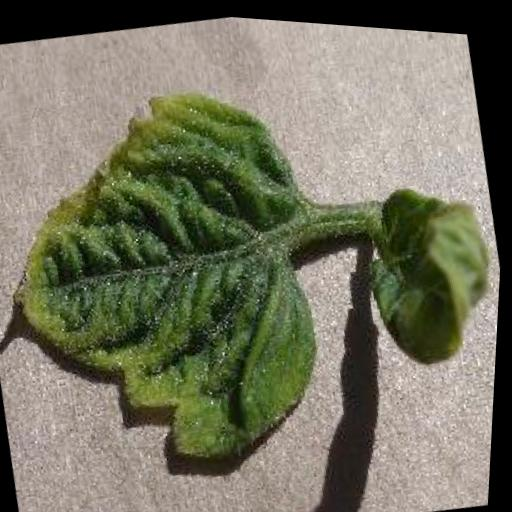Yellow Leaf Curl Virus: (0, 61, 349, 494)
